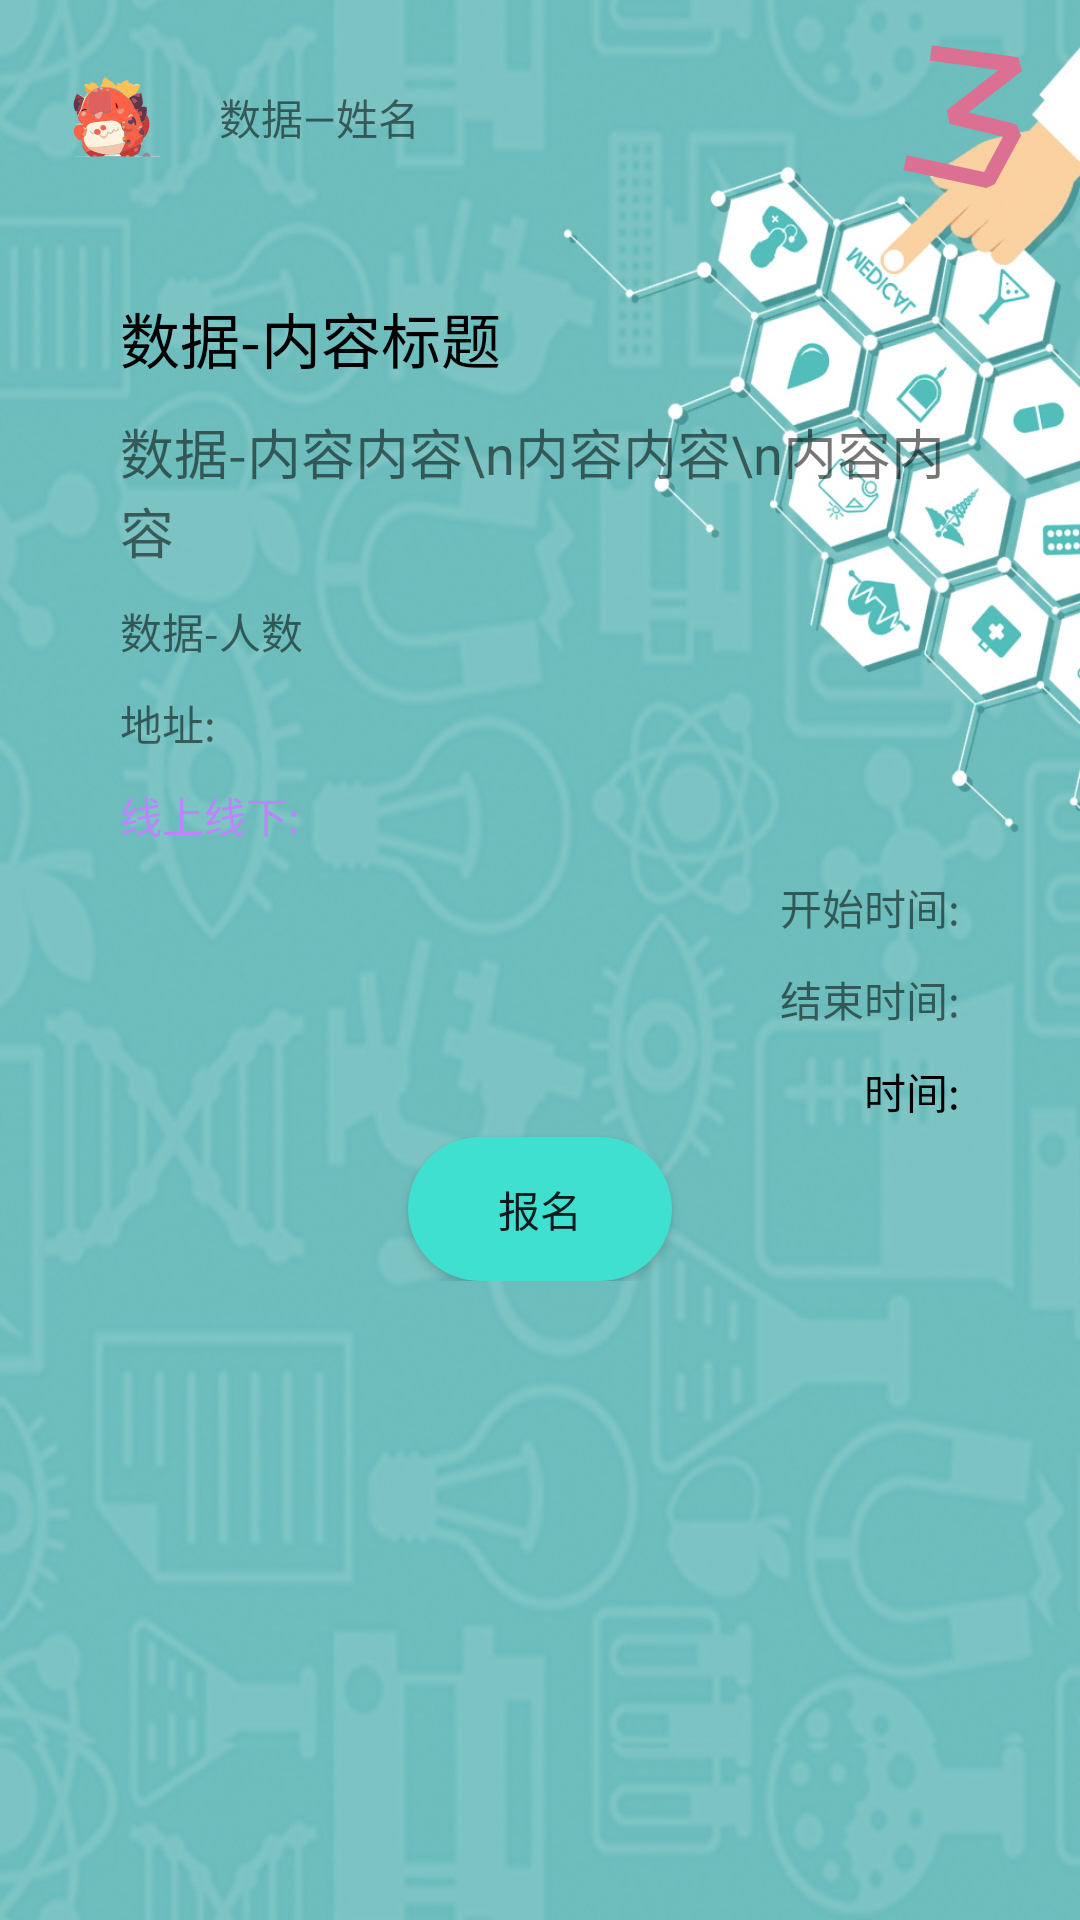

Point at icon controls on the screen. Image size 1080w x 1920h, points as point (x, y).
头像: point (116, 117)
